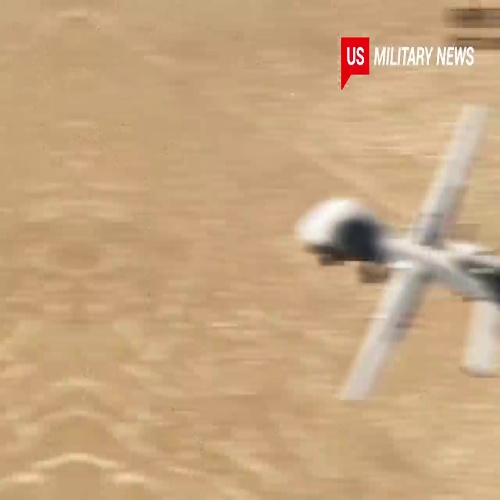uav26: (280, 104, 500, 399)
